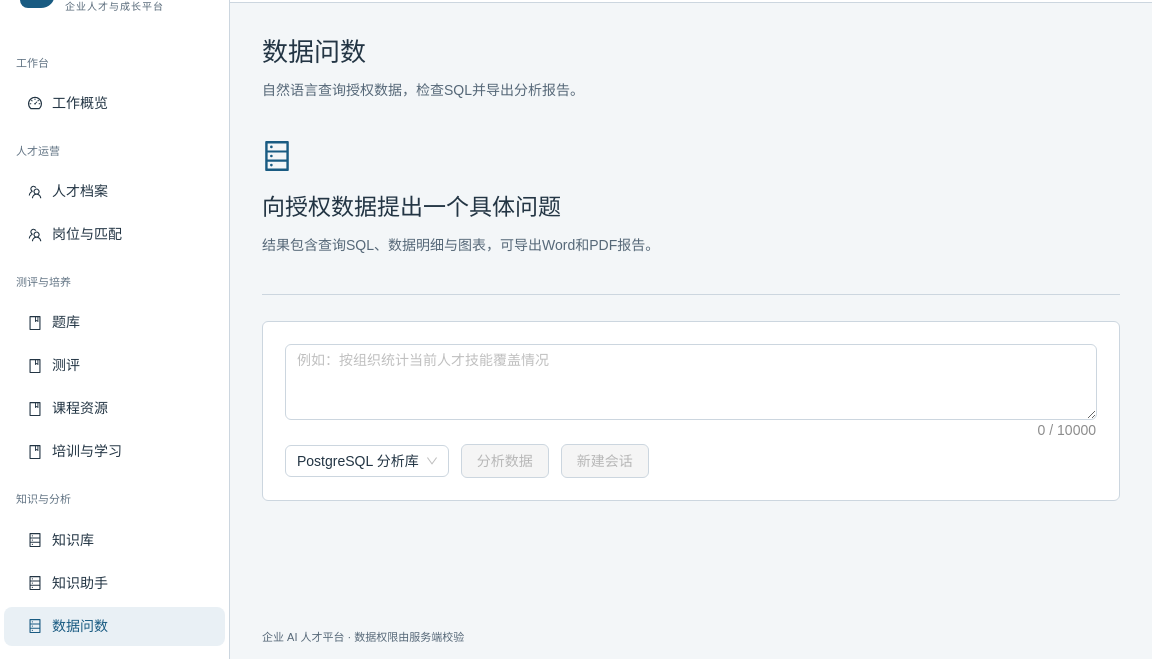
问数补充回答沿用服务端会话编号
This screenshot has width=1152, height=659.
Type "统计员工人数" into the text box named "数据问题" at (691, 382), box x1=286 y1=345 x2=1096 y2=419
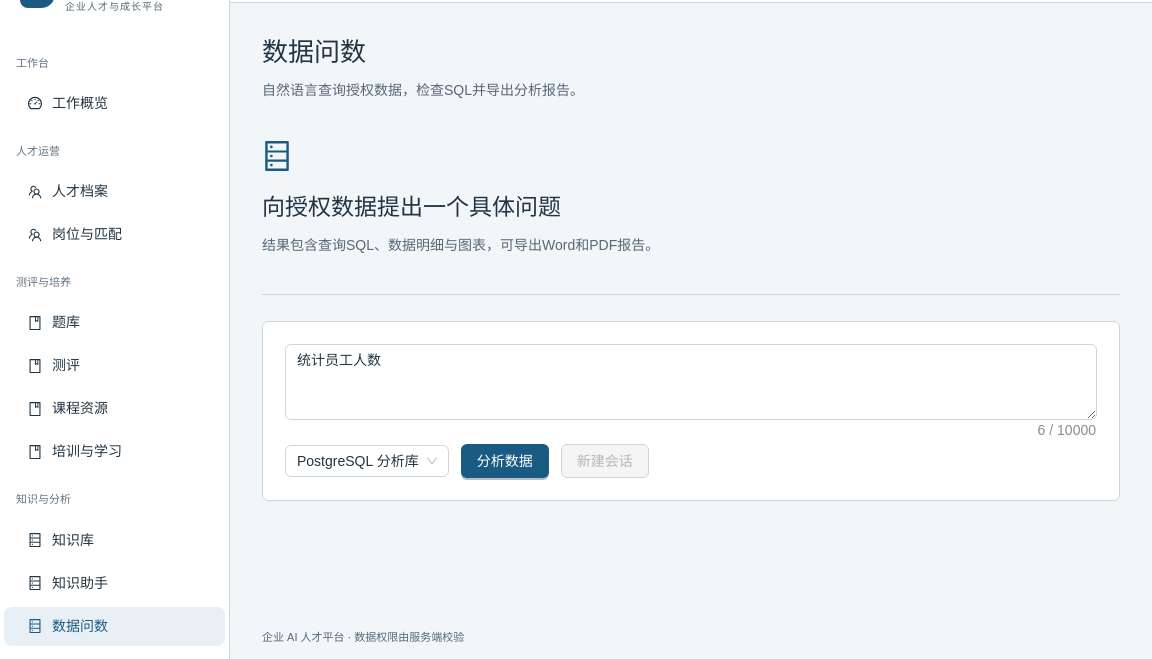
Click the button "分析数据" at (505, 461), box x1=461 y1=444 x2=549 y2=478
(page scrolled)
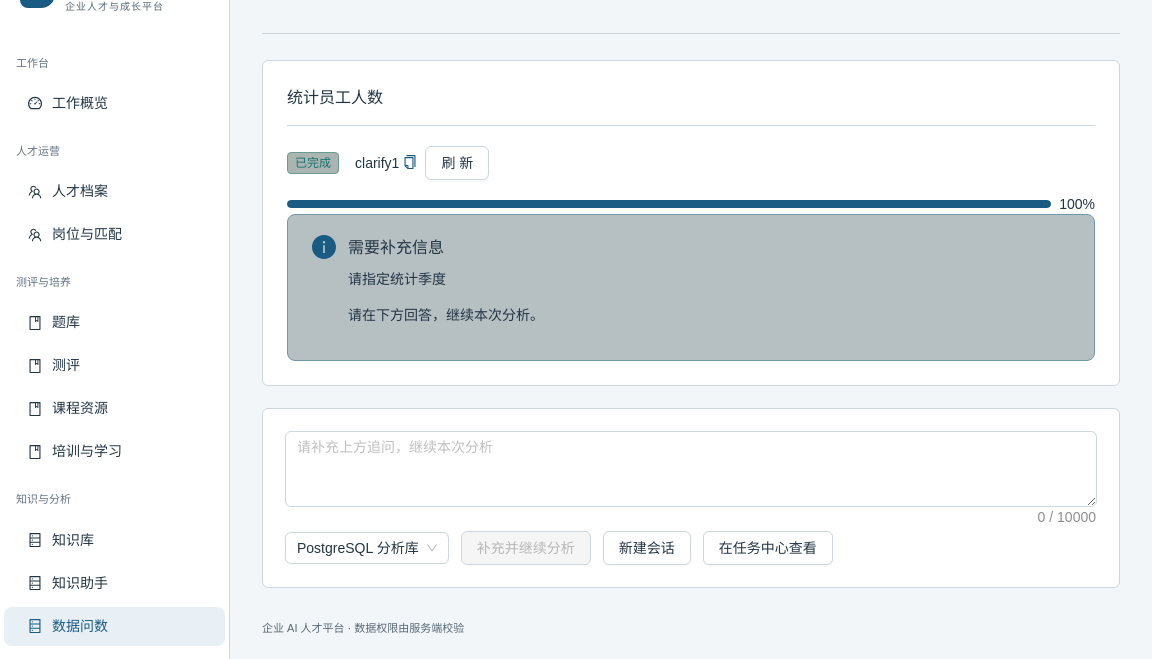
Expected: the text "请指定统计季度" is shown, x1=348 y1=271 x2=446 y2=287
Type "2026年第一季度" into the text box named "数据问题" at (691, 469), box x1=286 y1=432 x2=1096 y2=506
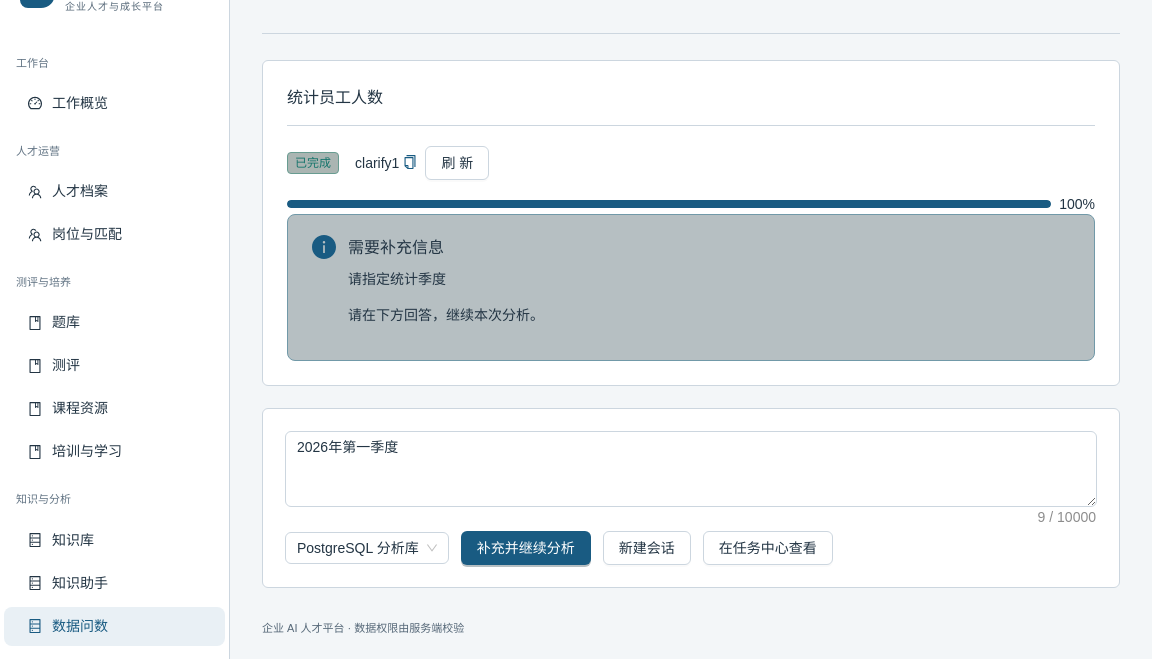
Click the button "补充并继续分析" at (526, 548), box x1=461 y1=531 x2=591 y2=565
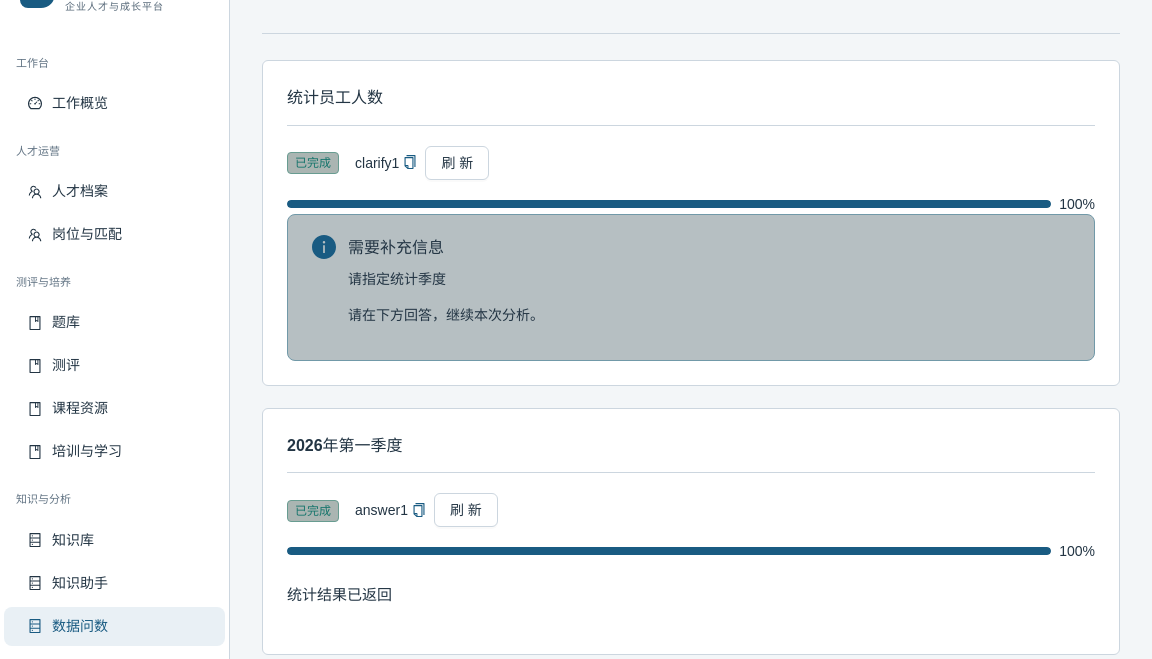
Expected: the text "统计结果已返回" is shown, x1=287 y1=586 x2=392 y2=603
